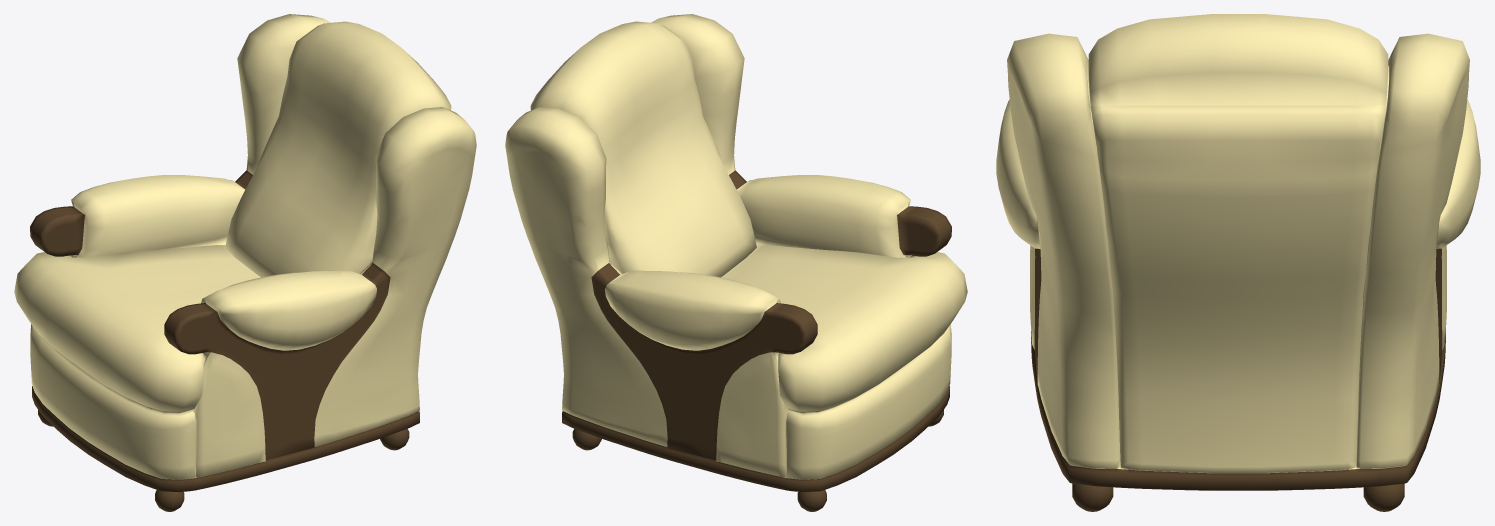
The model's file is ArmChair.glb.
3 renders of one model, left to right at view 1: azimuth 30°, elevation 25°; view 2: azimuth 150°, elevation 25°; view 3: azimuth 270°, elevation 25°, orthographic. The views are drawn at different scales.
Parts seen in each view (by area): view 1: armchair_classic_ch_models_armchair_classic_ch_models_01; view 2: armchair_classic_ch_models_armchair_classic_ch_models_01; view 3: armchair_classic_ch_models_armchair_classic_ch_models_01.
Part boxes in pixels (box(x1,y1,x2,y2)): armchair_classic_ch_models_armchair_classic_ch_models_01: box(14, 14, 476, 511); armchair_classic_ch_models_armchair_classic_ch_models_01: box(505, 14, 967, 511); armchair_classic_ch_models_armchair_classic_ch_models_01: box(996, 14, 1480, 511).
Bounding box in the file's own units: 0.9352 × 0.941 × 0.8082.
